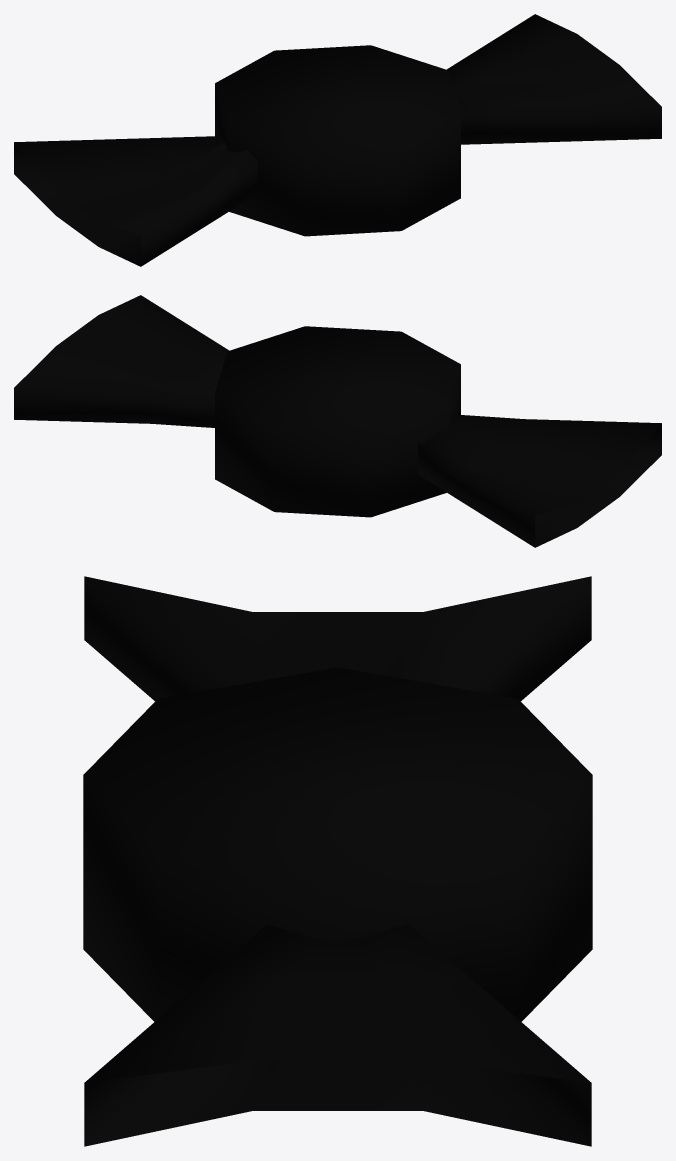
Rendered from loose tooth remover candy black.fbx.
3 renders of one model, top to bottom at view 1: azimuth 30°, elevation 25°; view 2: azimuth 150°, elevation 25°; view 3: azimuth 270°, elevation 25°, orthographic. The views are drawn at different scales.
Visible parts, largest first — view 1: Circle.001; view 2: Circle.001; view 3: Circle.001.
Boxes of the visible parts, x1,y1,x2,y2 form: Circle.001: (14, 14, 661, 266); Circle.001: (14, 295, 661, 547); Circle.001: (83, 576, 592, 1146).
Size of the model in its own units: 473 by 75.67 by 200.
